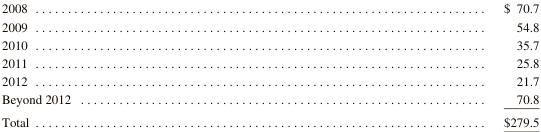table: (0, 0, 538, 128)
table column: (0, 0, 286, 128), (286, 0, 538, 128)
table row: (0, 89, 538, 110), (0, 17, 538, 35), (0, 35, 538, 53), (0, 53, 538, 71), (0, 71, 538, 89), (0, 110, 538, 128), (0, 0, 538, 17)
